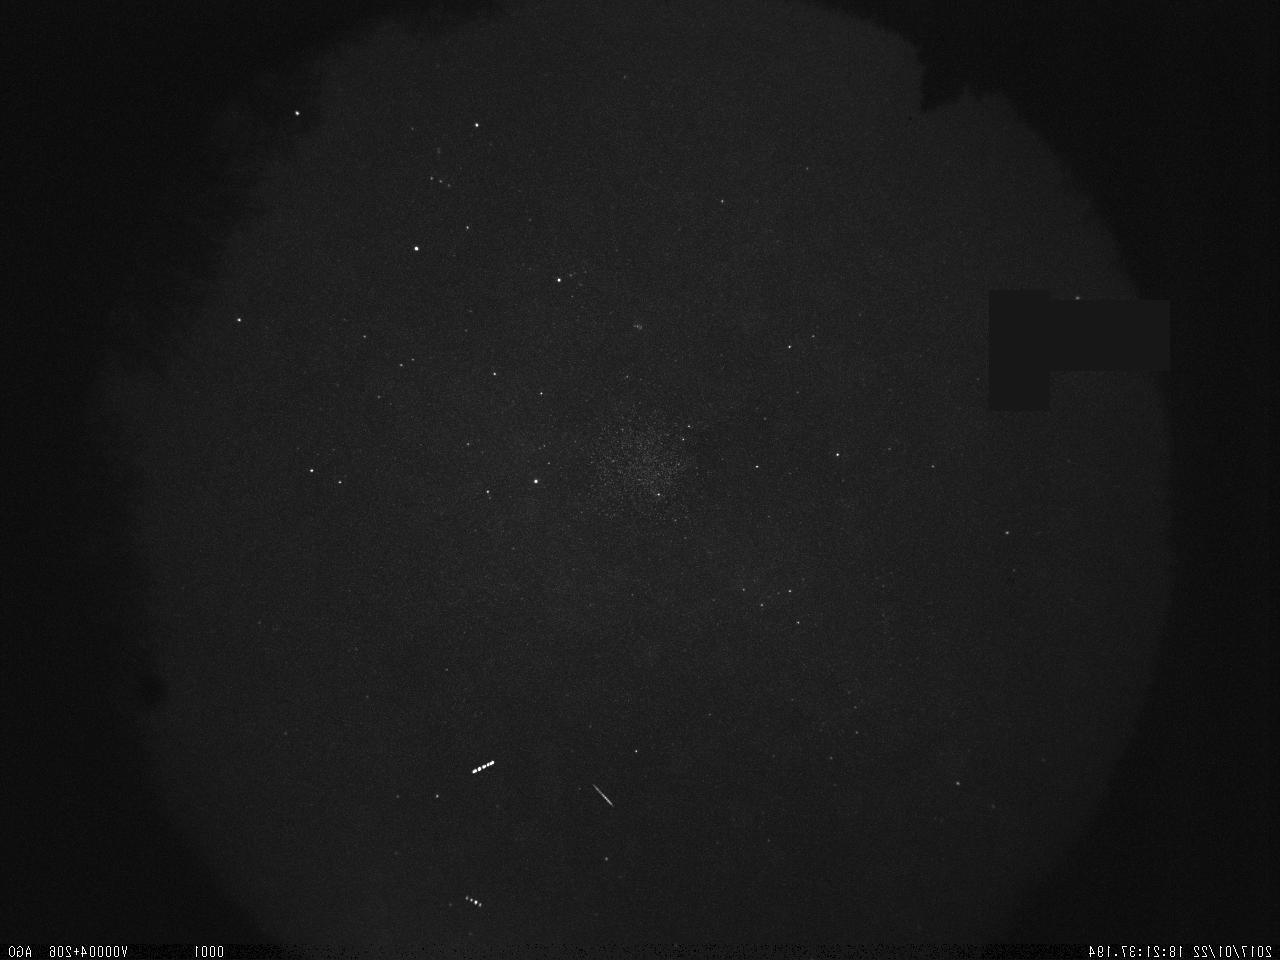meteor: (583, 770, 620, 815)
satelite: (467, 750, 500, 784), (460, 888, 487, 914)
